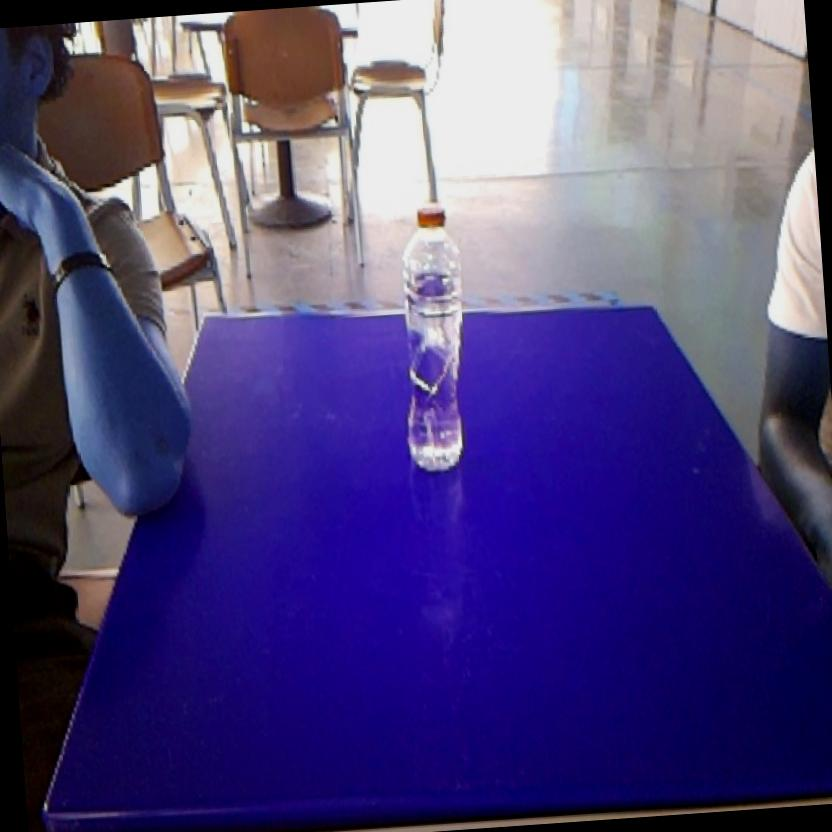no_label: (383, 190, 482, 482)
